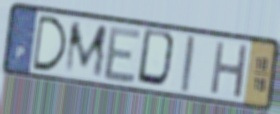D: (135, 26, 180, 91), (31, 13, 69, 74)
E: (101, 25, 144, 85)
H: (208, 38, 251, 100)
I: (179, 34, 197, 94)
M: (62, 21, 110, 80)
